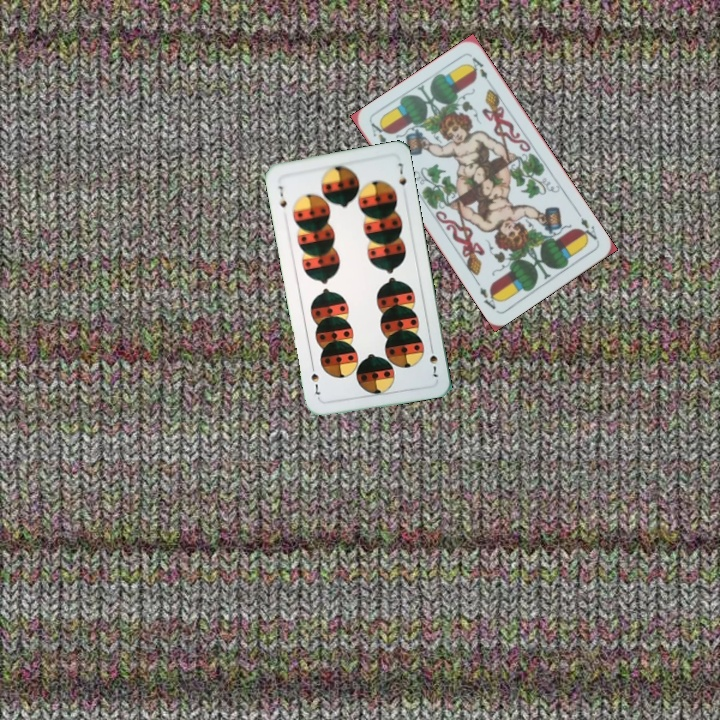EA: (575, 213, 601, 245), (367, 119, 389, 147)
S7: (426, 341, 441, 382), (274, 182, 289, 210)
